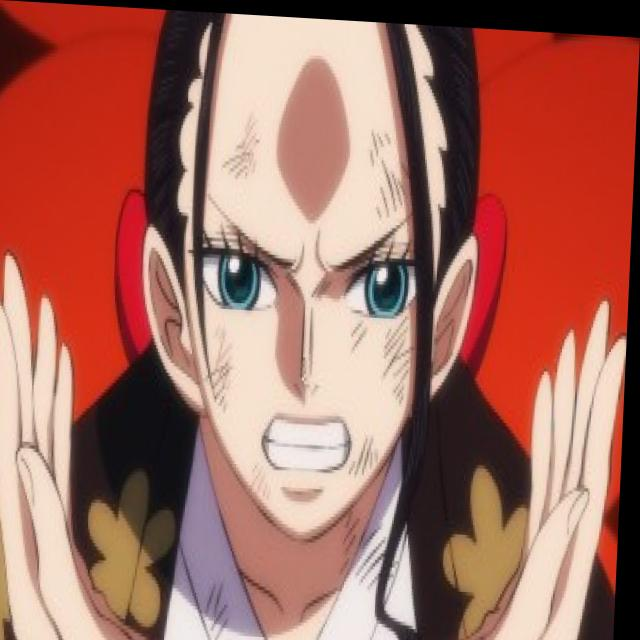NicoRobin: (121, 7, 530, 565)
